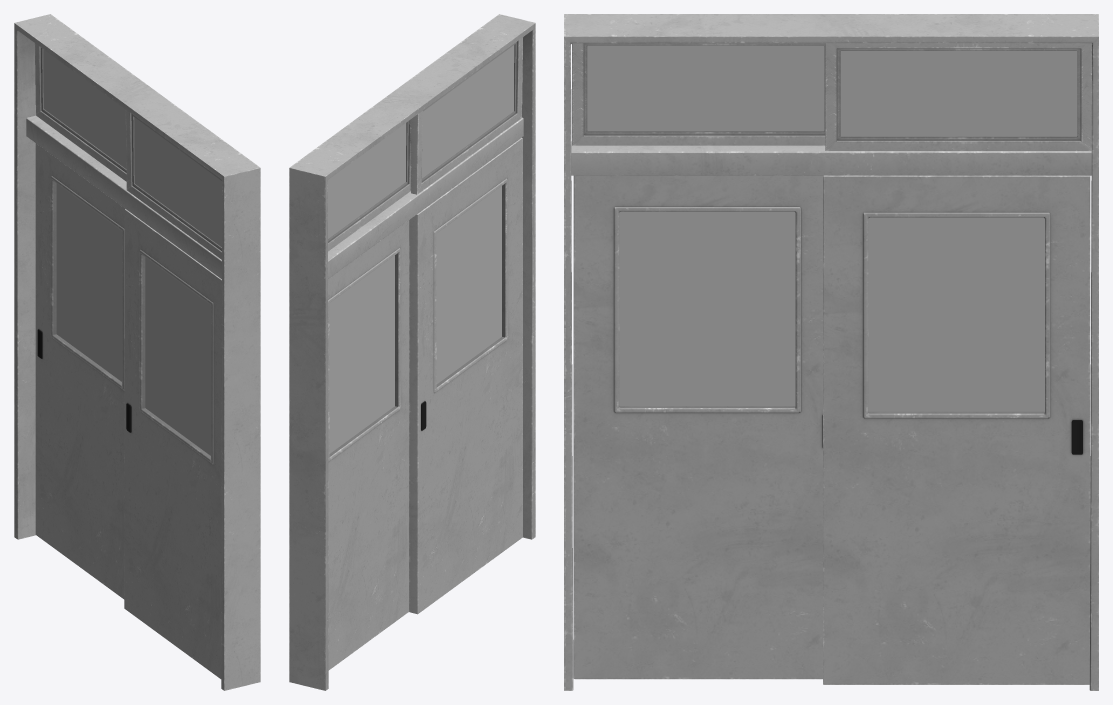
The model's file is SM_Partition_01.fbx.
3 renders of one model, left to right at view 1: azimuth 30°, elevation 25°; view 2: azimuth 150°, elevation 25°; view 3: azimuth 270°, elevation 25°, orthographic. The views are drawn at different scales.
Parts seen in each view (by area): view 1: SM_Partition_01_LOD0; view 2: SM_Partition_01_LOD0; view 3: SM_Partition_01_LOD0.
Part boxes in pixels (box(x1,y1,x2,y2)): SM_Partition_01_LOD0: box(14, 14, 260, 690); SM_Partition_01_LOD0: box(289, 14, 535, 690); SM_Partition_01_LOD0: box(564, 14, 1098, 690).
Size of the model in its own units: 20 by 200 by 270.
Materials: 2 (1 with a texture image).
